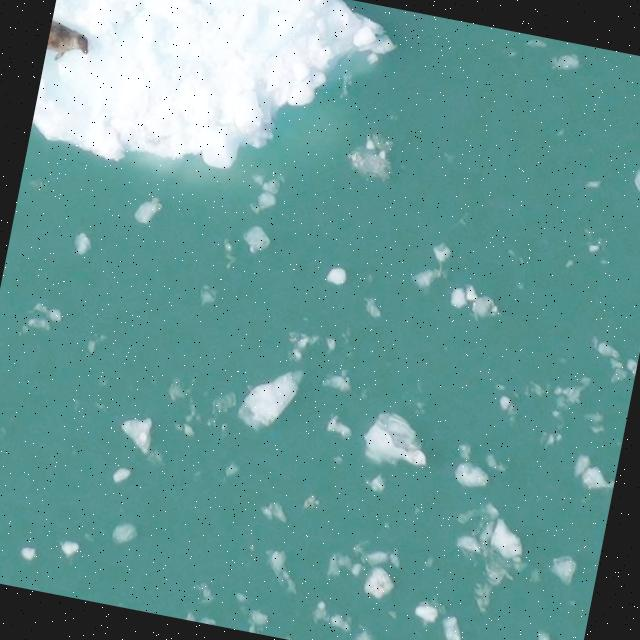seal: (45, 18, 91, 66)
